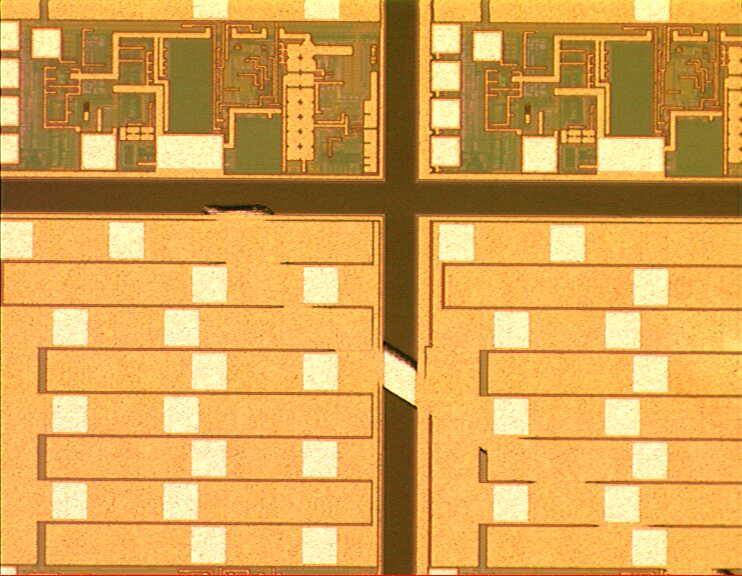COATING BAD: (196, 201, 735, 576)
